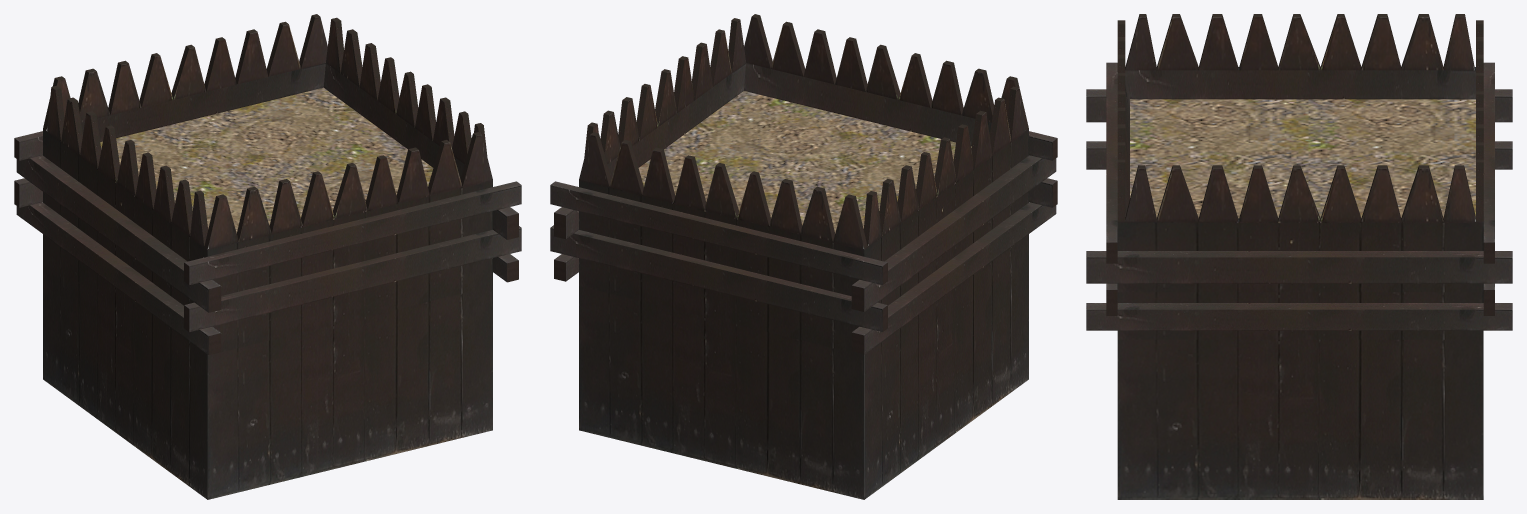
File: huajia_base.gltf
The picture shows the model from 3 angles, left to right: view 1: azimuth 30°, elevation 25°; view 2: azimuth 150°, elevation 25°; view 3: azimuth 270°, elevation 25°; orthographic projection. The views are drawn at different scales.
Visible parts, largest first — view 1: huakeng; view 2: huakeng; view 3: huakeng.
Boxes of the visible parts, box(x1,y1,x2,y2) form: huakeng: box(14, 14, 521, 499); huakeng: box(550, 14, 1057, 499); huakeng: box(1086, 14, 1512, 499).
Bounding box in the file's own units: 1.17 × 1 × 1.17.
Materials: 1 (1 with a texture image).
